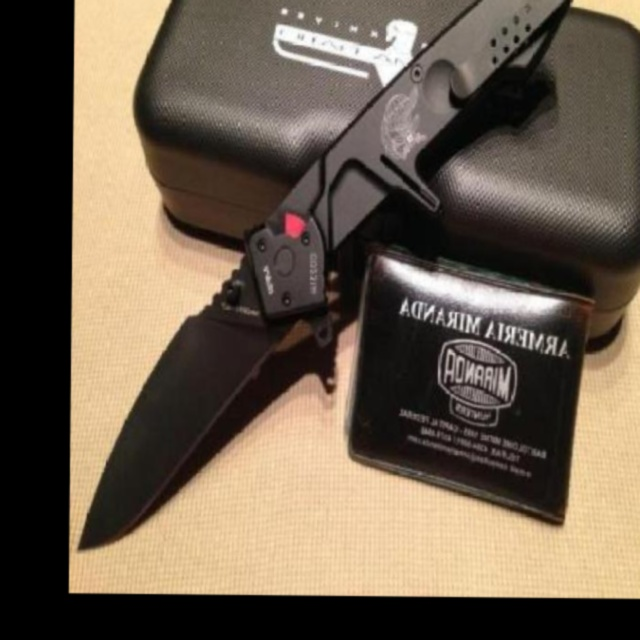Sharp-Object: (76, 0, 576, 558)
